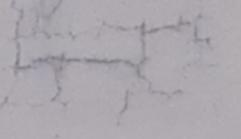fissura: (4, 3, 224, 101)
